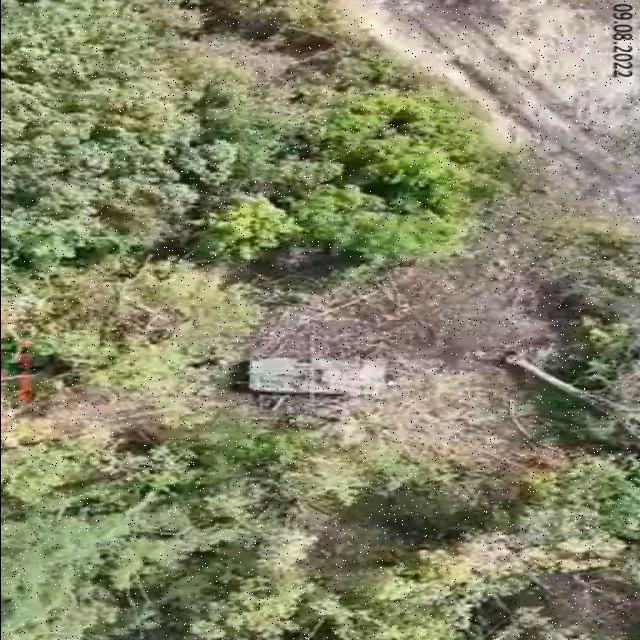APC-IFV: (234, 344, 394, 396)
